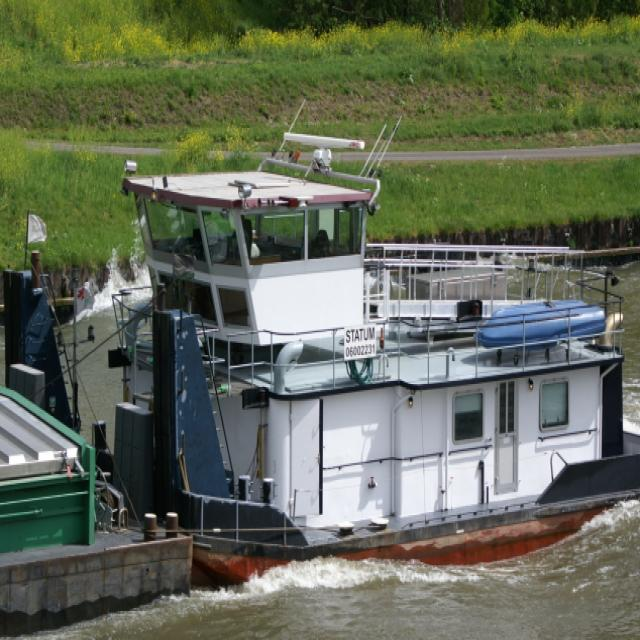tugboat: (1, 129, 640, 592)
